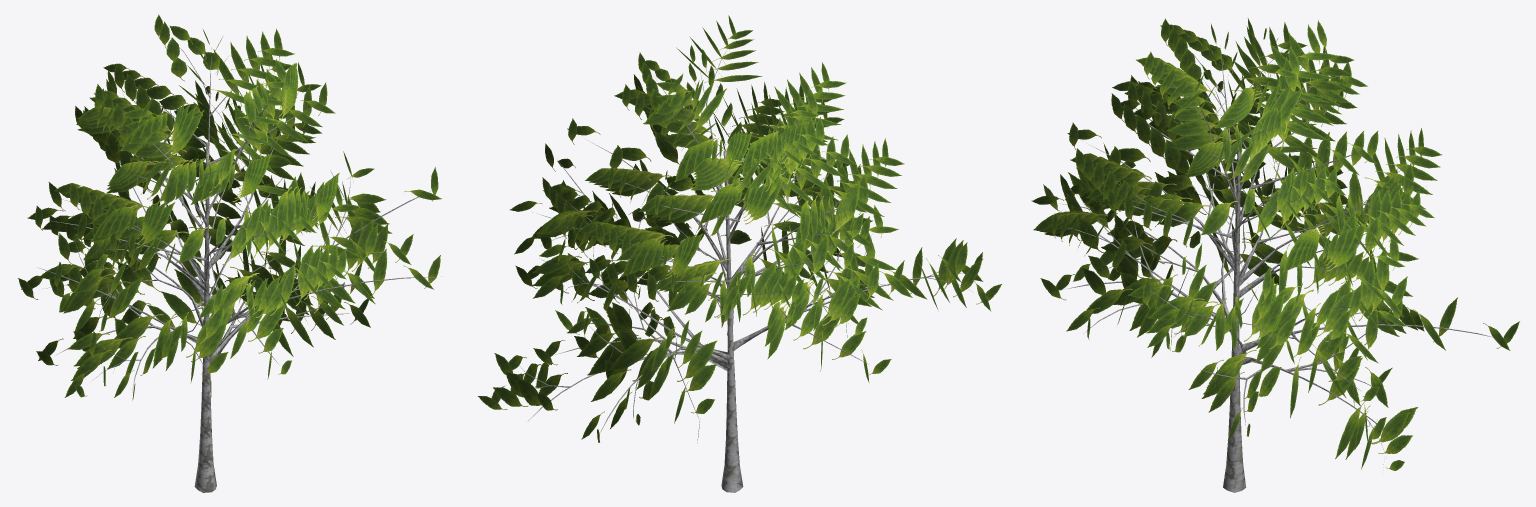
Rendered from Tree02.fbx.
3 views of the same model, side by side, from view 1: azimuth 30°, elevation 25°; view 2: azimuth 150°, elevation 25°; view 3: azimuth 270°, elevation 25° (orthographic). The views are drawn at different scales.
Visible parts, largest first — view 1: tree; view 2: tree; view 3: tree.
Part boxes in pixels (x1,y1,x2,y2): tree: [18, 14, 441, 492]; tree: [477, 15, 1001, 492]; tree: [1031, 18, 1519, 492].
Bounding box in the file's own units: 1367 × 1380 × 1322.
